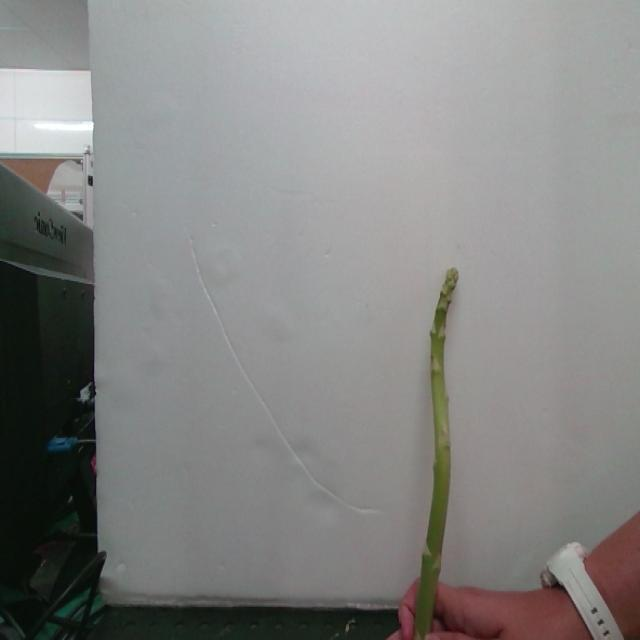aspargus: (412, 270, 461, 640)
